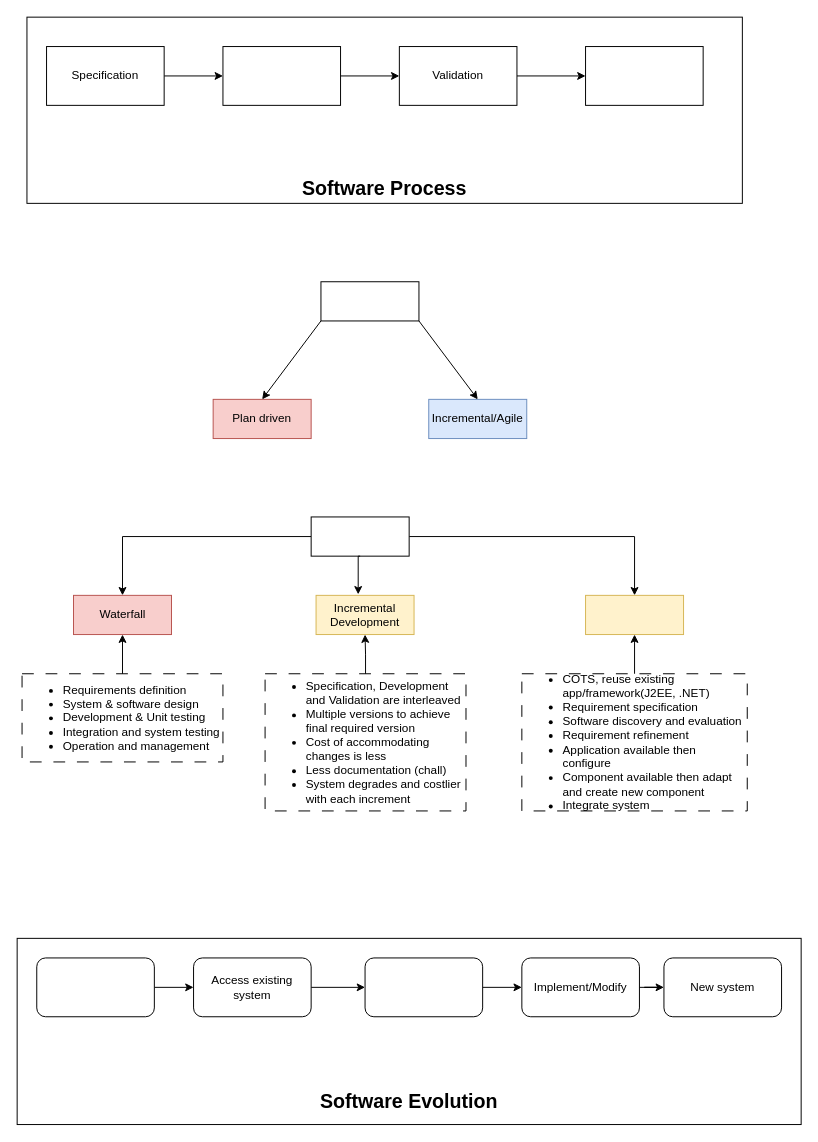
Image size: 818x1142. Some labels were removed from this diagram. Here are the shapes that lost their labels. From the top down, the centre of each, then its label:
At (x=281, y=75): "Design & Implementation".
At (x=644, y=75): "Evolution".
At (x=369, y=301): "Processes".
At (x=359, y=536): "Processes Model".
At (x=634, y=614): "Integration & configuration".
At (x=95, y=987): "Requirements specification".
At (x=423, y=987): "Propose changes".
